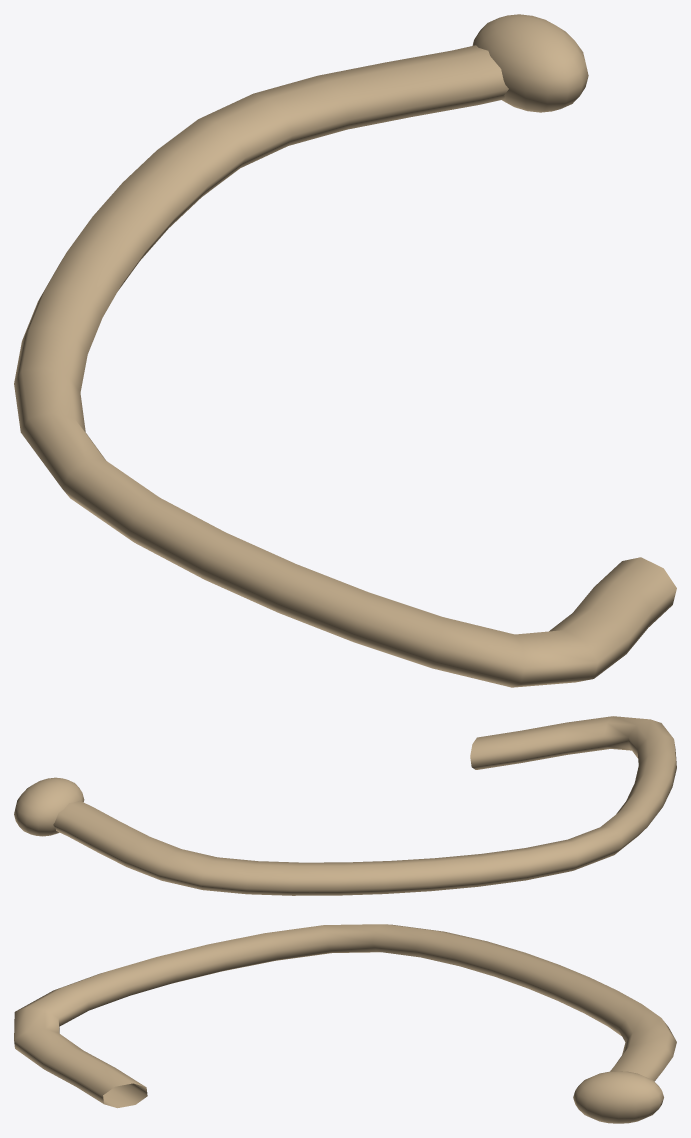
Rendered from right_rib_12.glb.
3 views of the same model, one above another, from view 1: azimuth 30°, elevation 25°; view 2: azimuth 150°, elevation 25°; view 3: azimuth 270°, elevation 25° (orthographic). The views are drawn at different scales.
Parts seen in each view (by area): view 1: right_rib_12:costal-body, right_rib_12:head; view 2: right_rib_12:costal-body, right_rib_12:head; view 3: right_rib_12:costal-body, right_rib_12:head.
Part boxes in pixels (box(x1,y1,x2,y2)): right_rib_12:costal-body: box(14, 45, 676, 687); right_rib_12:head: box(472, 14, 588, 112); right_rib_12:costal-body: box(53, 716, 676, 895); right_rib_12:head: box(14, 777, 84, 836); right_rib_12:costal-body: box(14, 924, 676, 1108); right_rib_12:head: box(573, 1071, 663, 1123).
Bounding box in the file's own units: 0.3028 × 0.0774 × 0.387.
